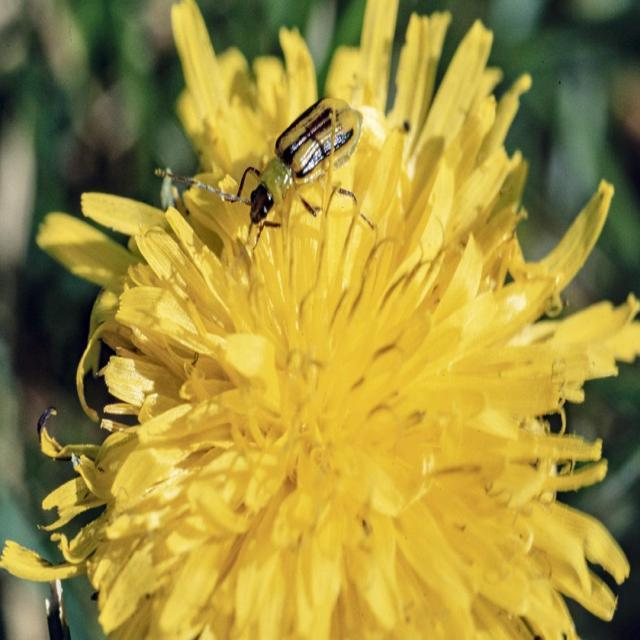trips: (208, 78, 402, 228)
